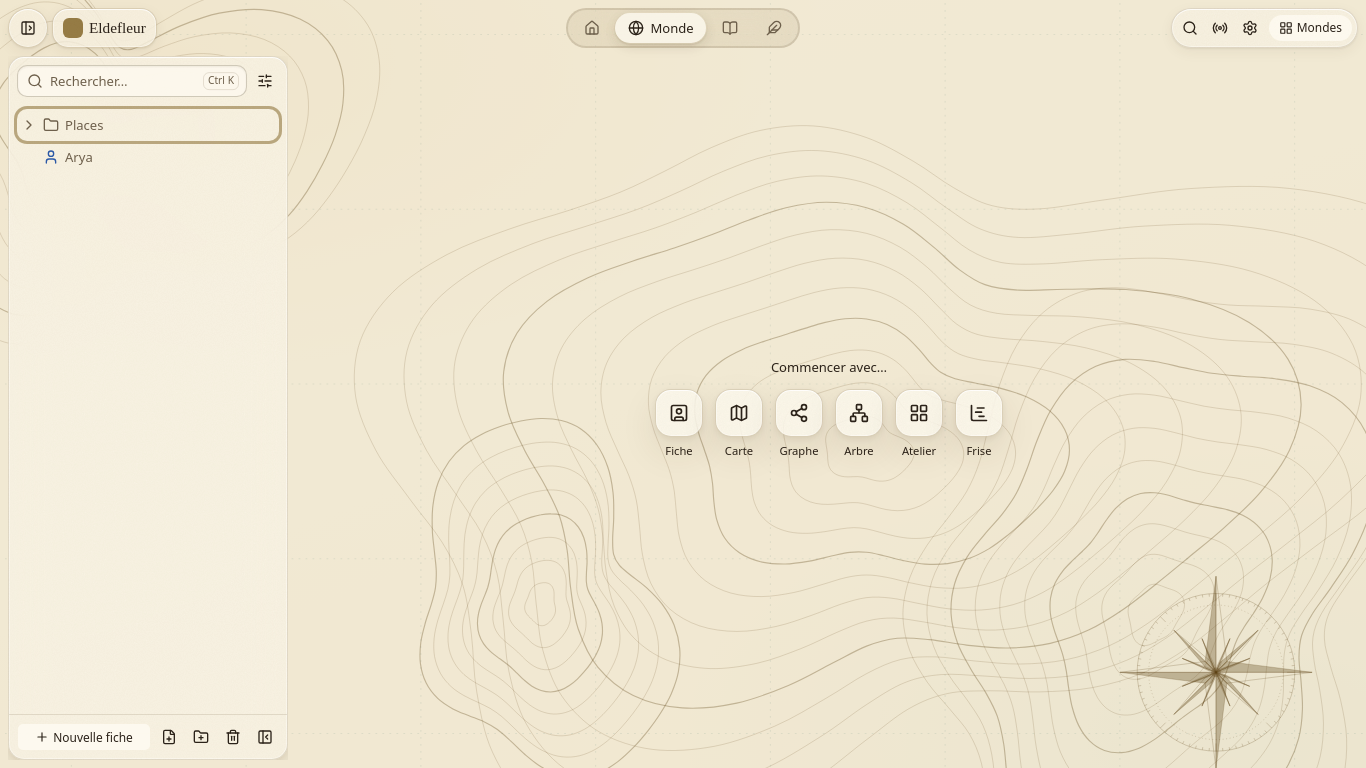
Delete on a folder asks what to do with its content
Press Delete in the list item "Places", box [17,109,279,141]
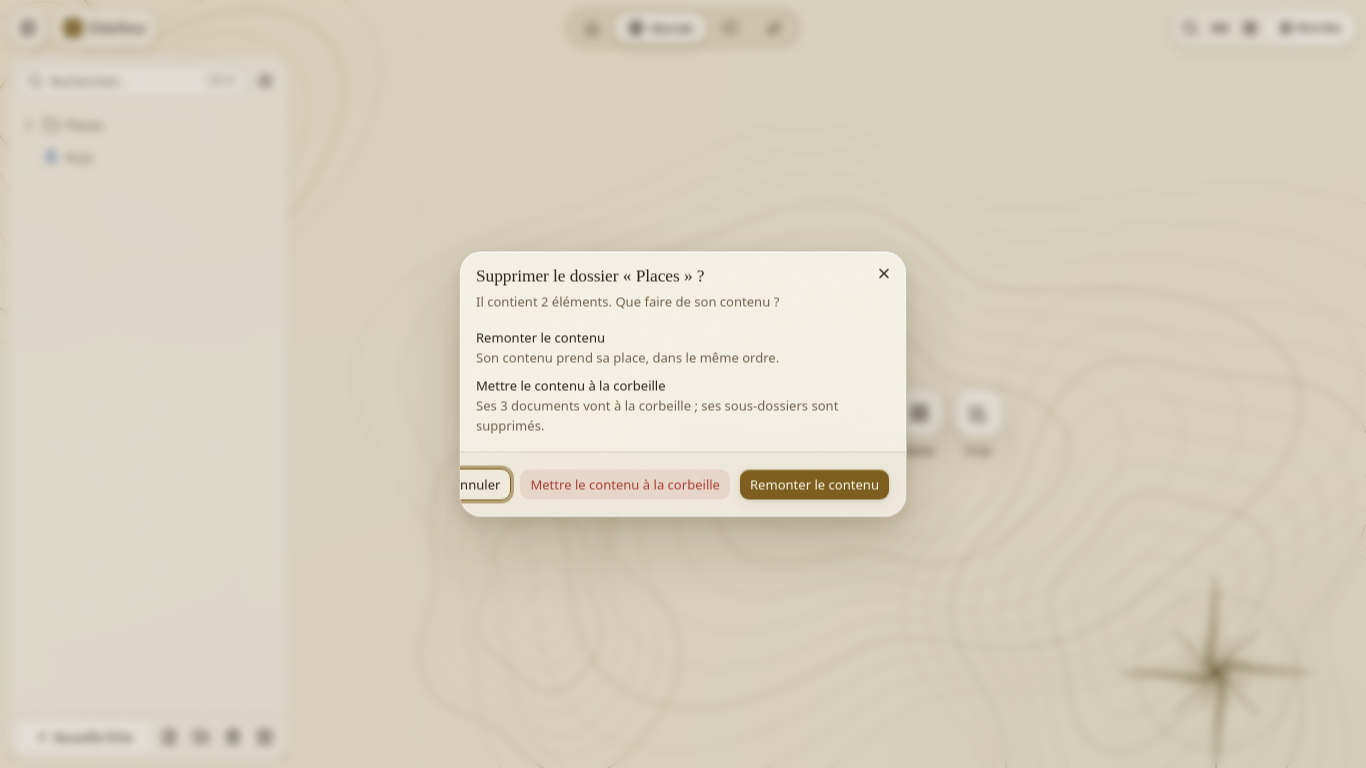
expect the text "Il contient 2 éléments. Que faire de son contenu ?" is shown: met, box [476,292,779,310]
expect the list item "Ses 3 documents vont à la corbeille ; ses sous-dossiers sont supprimés." is shown: met, box [476,396,838,434]
Click the button "Remonter le contenu": coordinates (814, 484) [739,468,890,500]
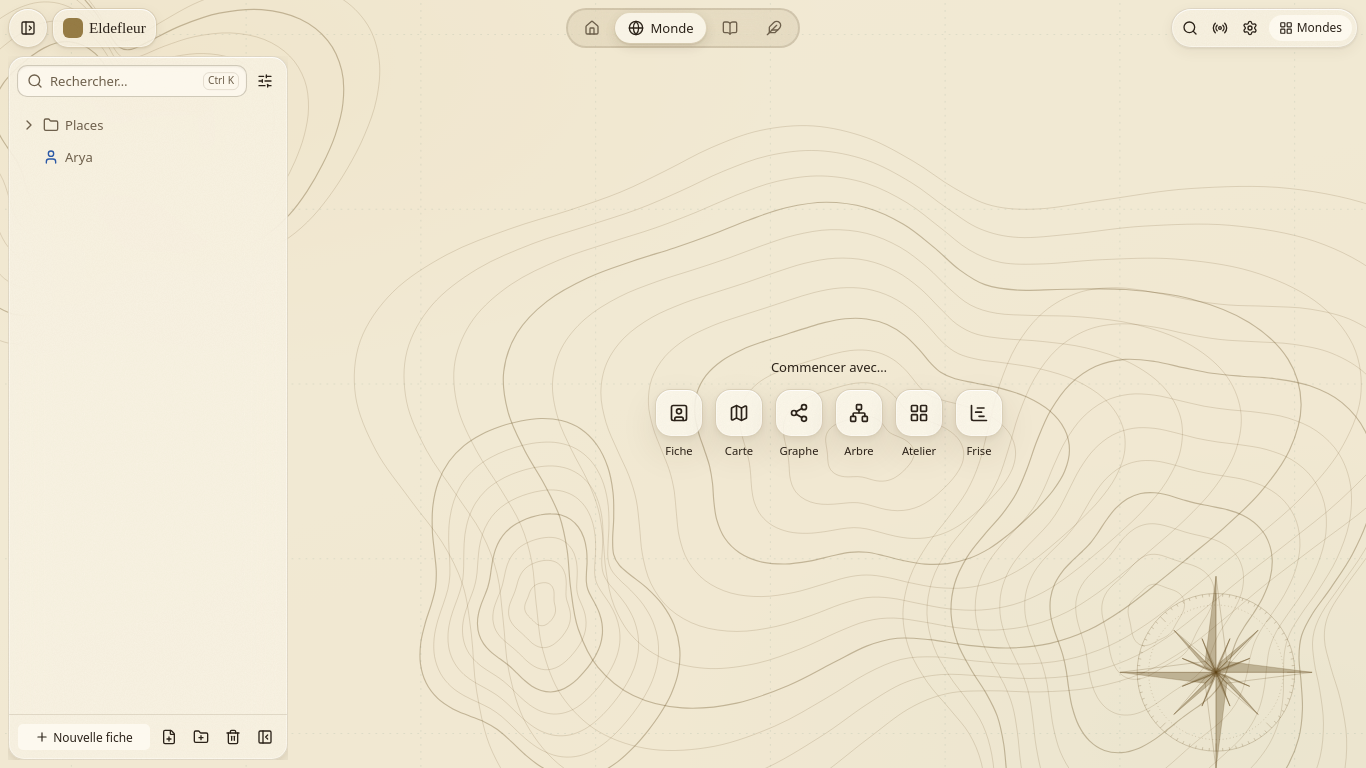
expect the dialog is gone: met
